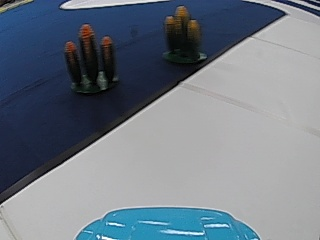corn: (64, 28, 118, 94), (162, 3, 204, 62)
